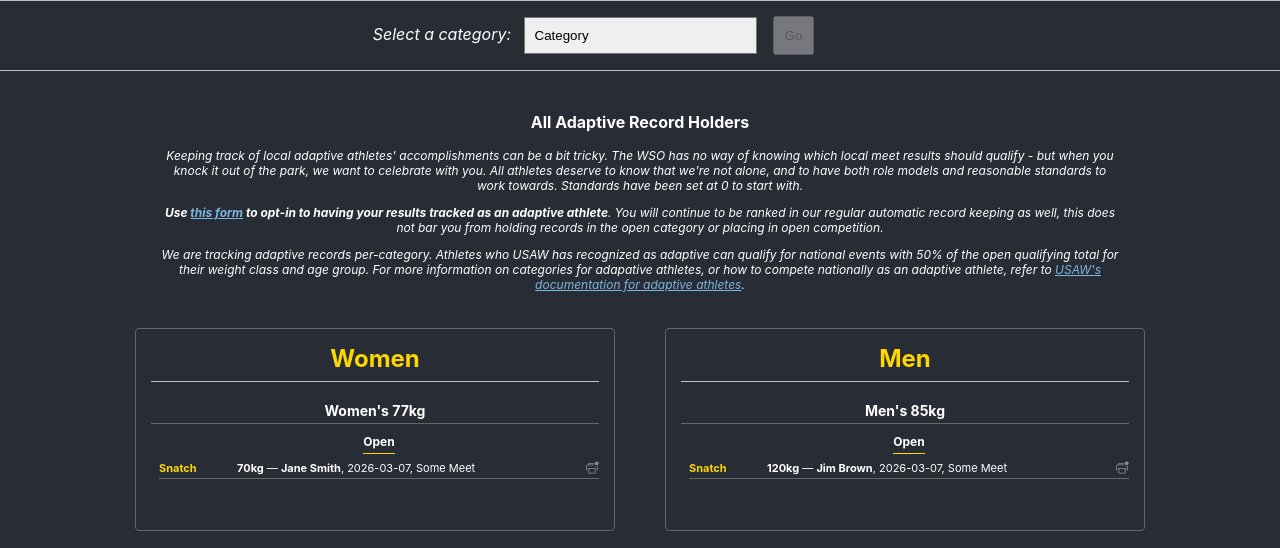
Test: AdaptiveRecords (user-based) › Reset returns to the combined records when a combined tab is configured
Expected: the text "Jane Smith" is shown, [281,461,341,475]
Step 1. Select "Physical Disability" in the dropdown named "Category" → (640, 36), box [524,17,756,54]
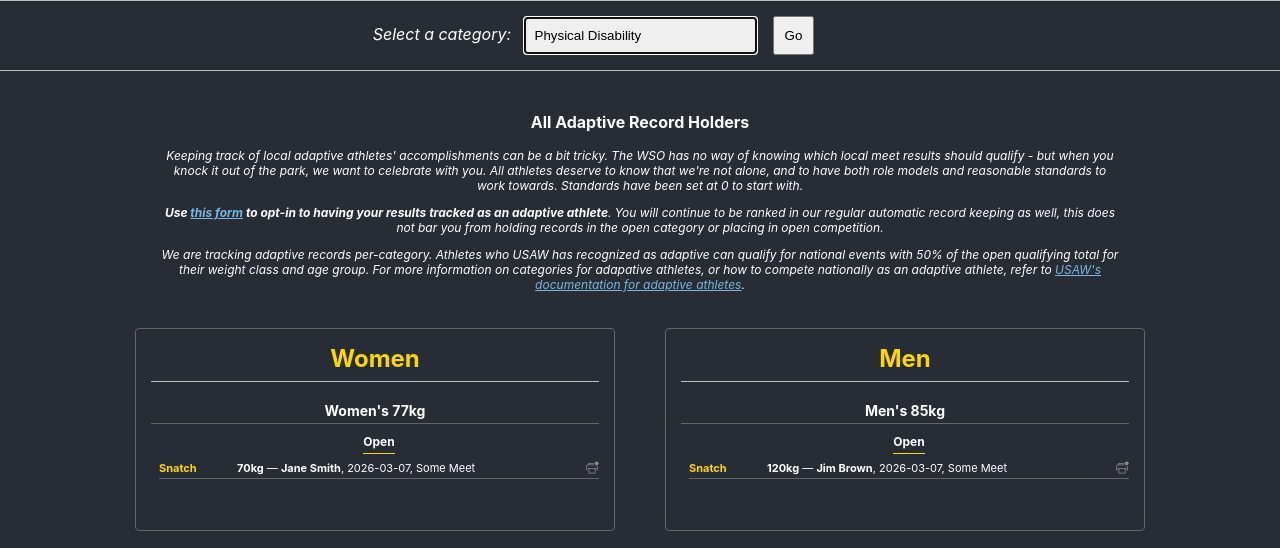
Step 2. Click the button "Go" → (793, 36), box [772,16,814,55]
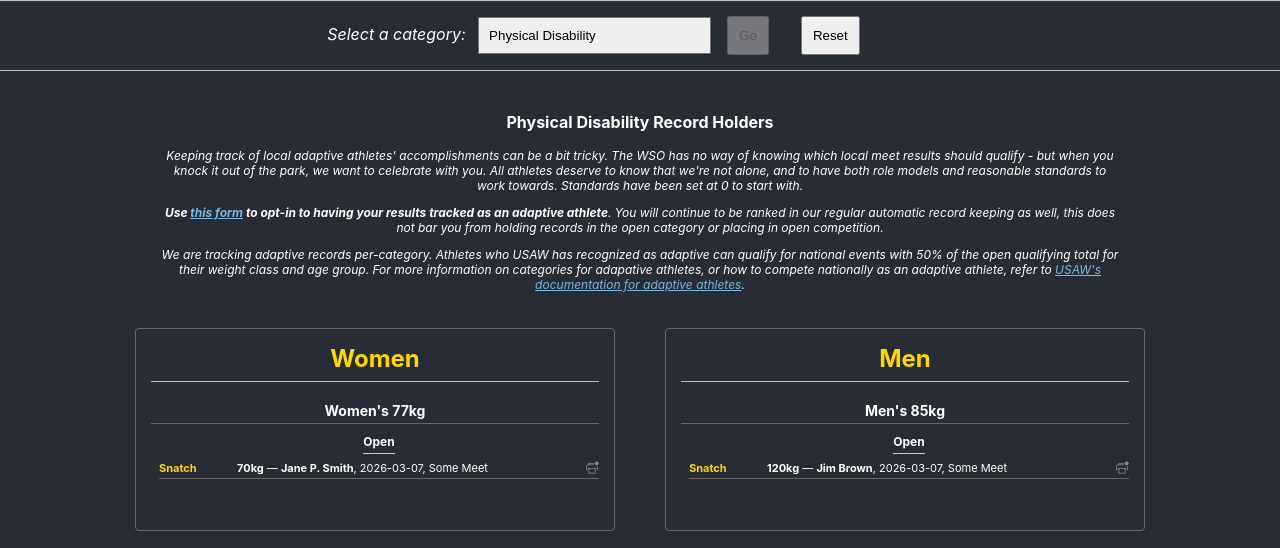
Result: the text "Jane P. Smith" is shown at [281,461,354,475]
Result: the text "Jane Smith" is gone
Step 3. Click the button "Reset" → (830, 36), box [801,16,860,55]
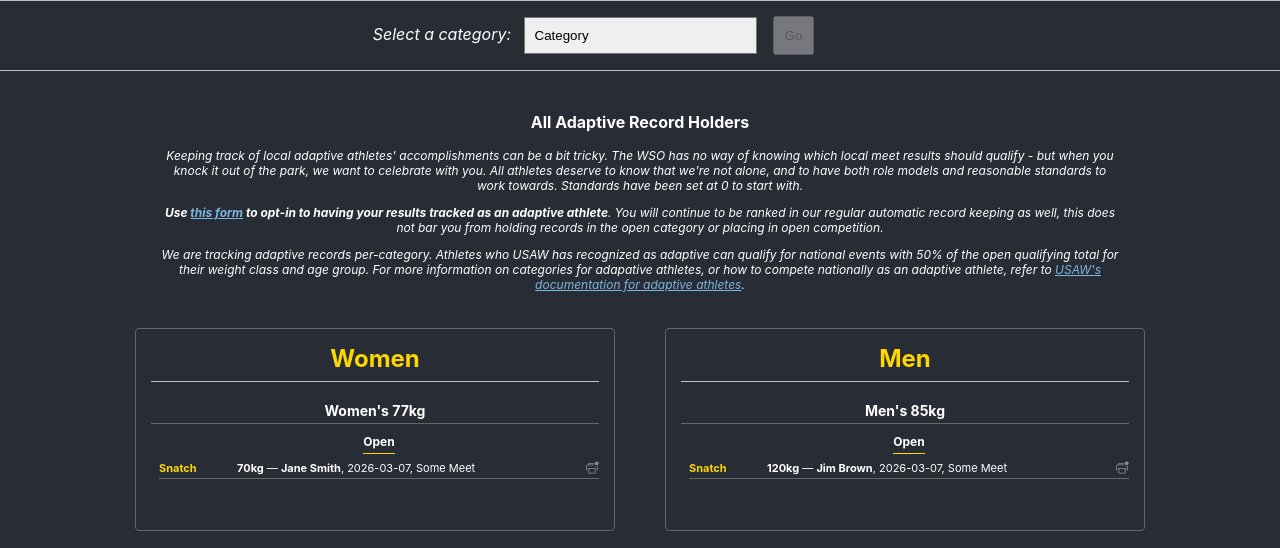
Result: the text "Jane Smith" is shown at [281,461,341,475]
Result: the text "All Adaptive Record Holders" is shown at [531,112,749,132]
